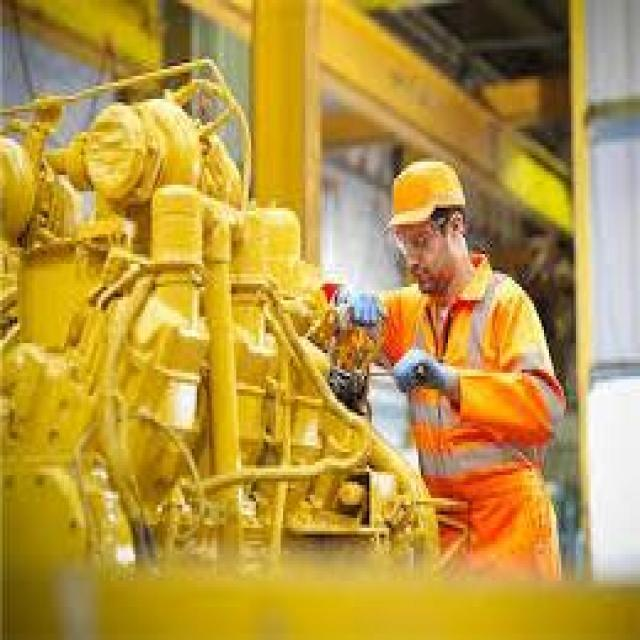reflective_jacket: (381, 264, 568, 561)
safety_helmet: (374, 145, 480, 244)
